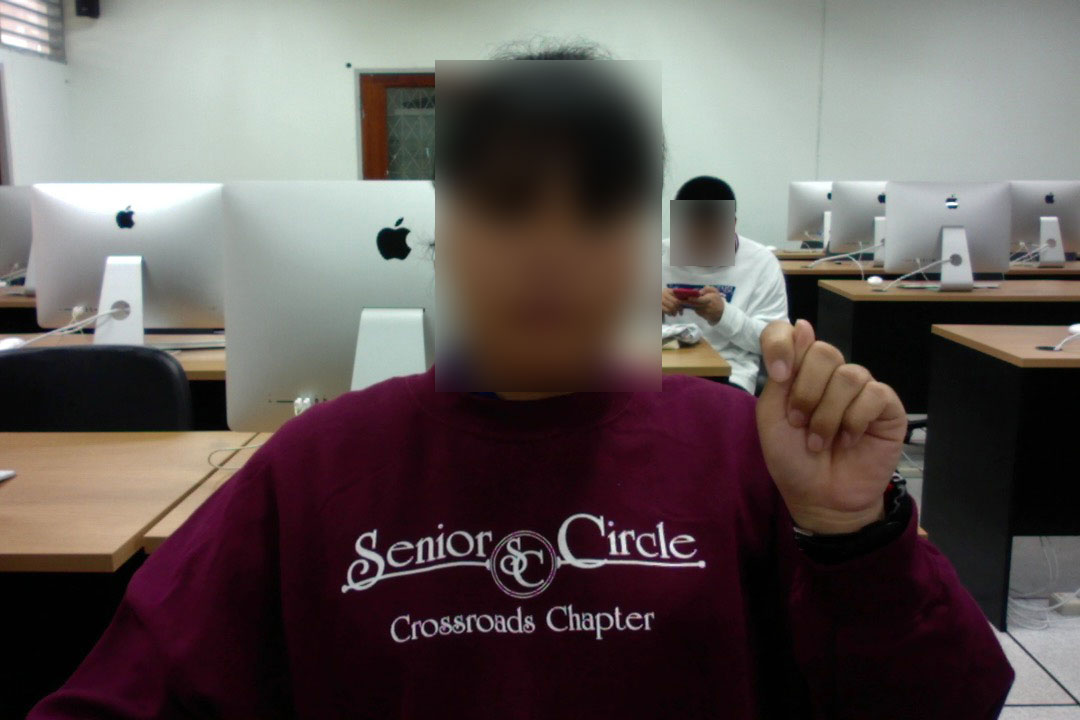tor: (742, 317, 914, 537)
